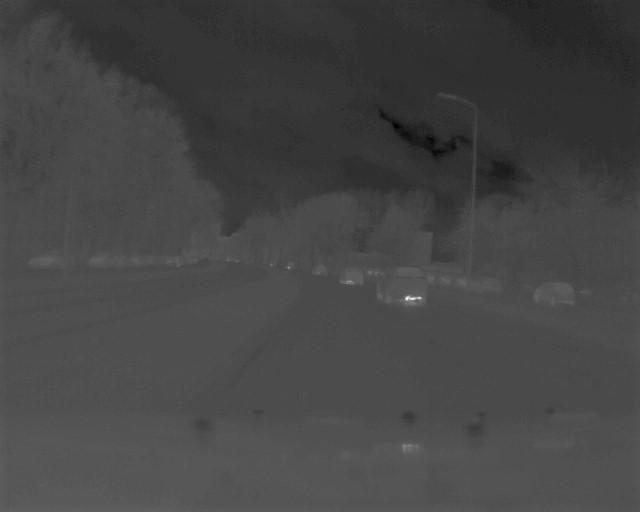car: (374, 266, 433, 307), (530, 280, 578, 311), (336, 263, 366, 287)
